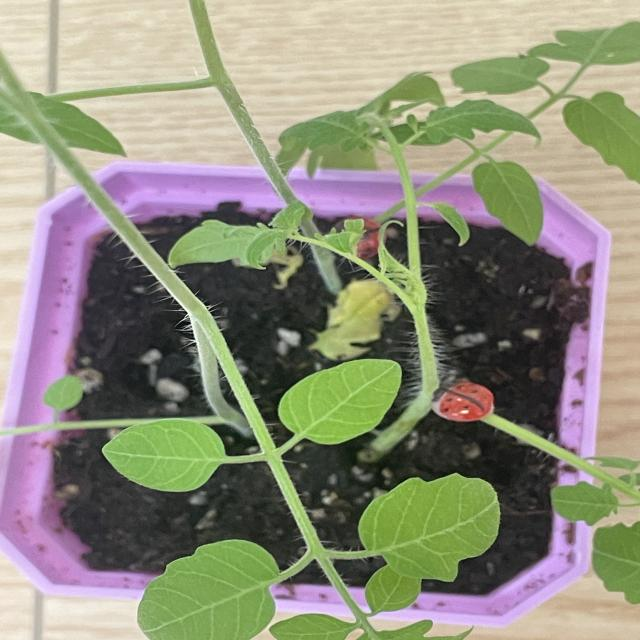bug: (421, 374, 515, 429), (314, 210, 394, 263)
